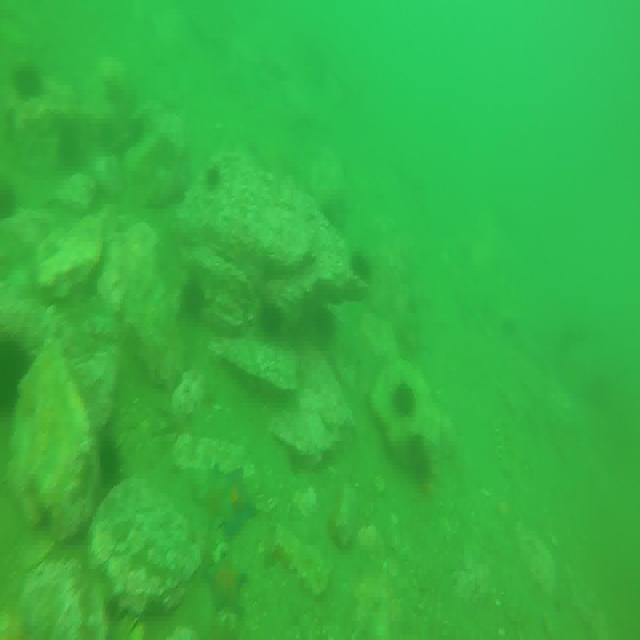echinus: (0, 339, 30, 407), (93, 431, 122, 493), (406, 436, 434, 484), (347, 249, 374, 290), (17, 61, 44, 101), (392, 381, 418, 421), (312, 306, 340, 343), (185, 278, 207, 320), (261, 302, 287, 335), (0, 186, 21, 222), (200, 163, 223, 191)
starfish: (204, 551, 251, 617), (211, 466, 253, 532)
